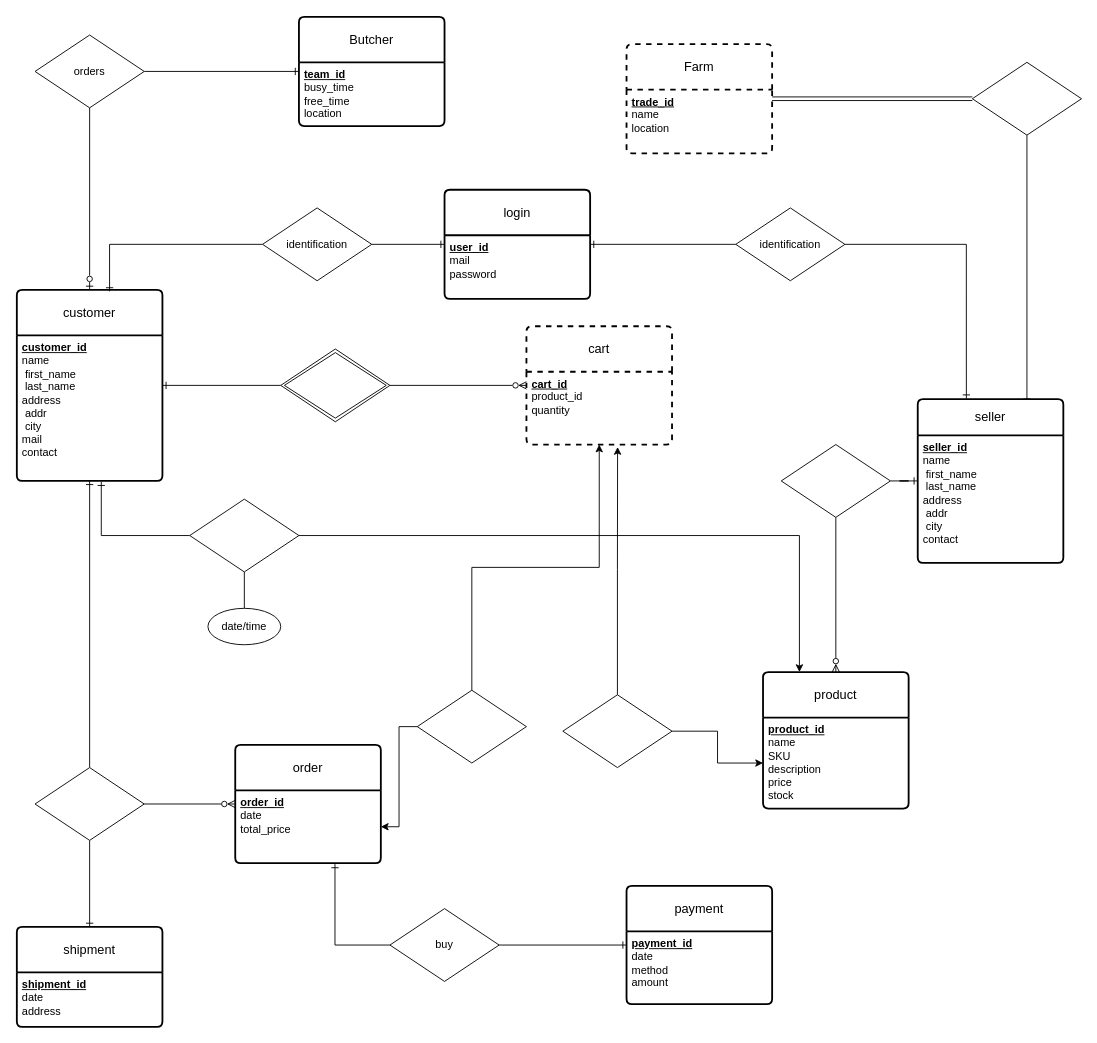
Image size: 1097x1043. Some labels were removed from this diagram. Each missing label, with the centre of its shape:
"bought" goes at point (89, 803).
"chooses_to_buy" goes at point (335, 385).
"chose_product" goes at point (617, 731).
"has" goes at point (1026, 98).
"make_order" goes at point (471, 726).
"wants_to_sell" goes at point (835, 480).
"wishes_to_buy" goes at point (244, 535).
